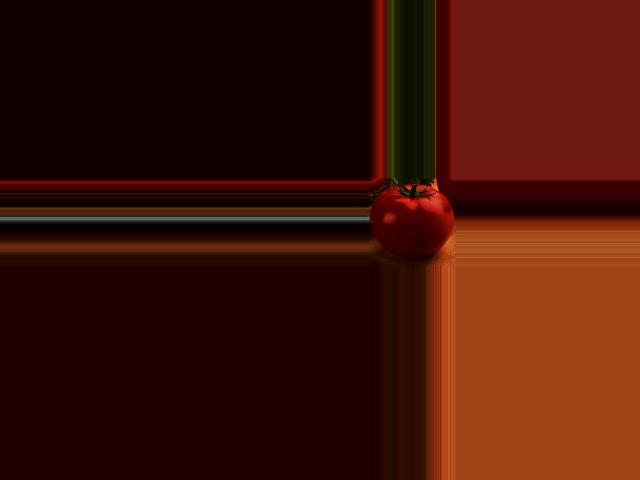tomato: (370, 184, 454, 257)
